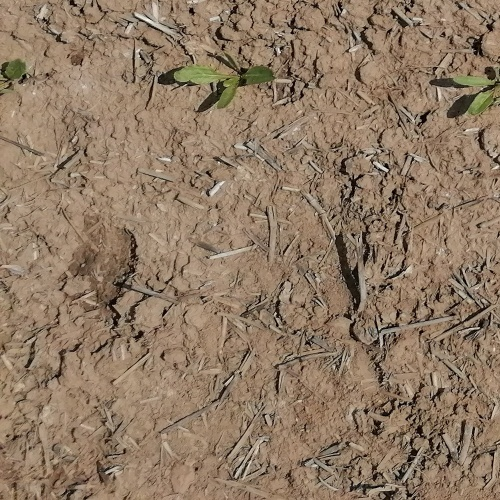beet: (173, 54, 274, 108), (452, 75, 500, 117), (0, 58, 24, 95)
